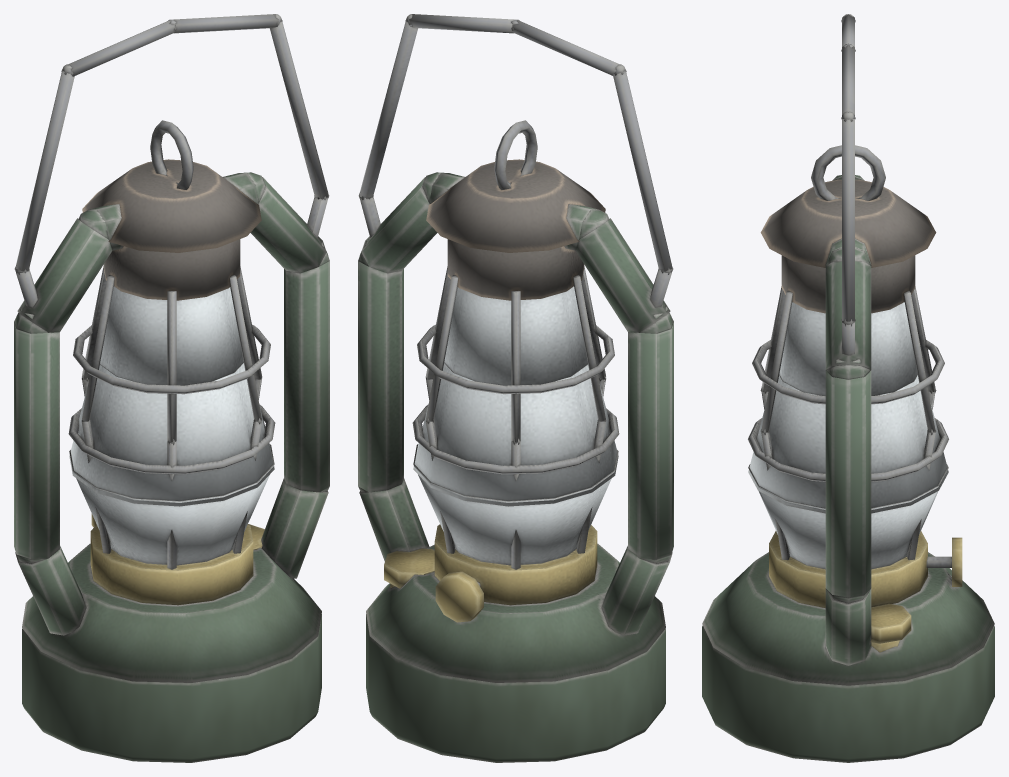
The model's file is kerosene_lamp.glb.
3 views of the same model, side by side, from view 1: azimuth 30°, elevation 25°; view 2: azimuth 150°, elevation 25°; view 3: azimuth 270°, elevation 25° (orthographic). The views are drawn at different scales.
Visible parts, largest first — view 1: kerosene_lamp; view 2: kerosene_lamp; view 3: kerosene_lamp.
Boxes of the visible parts, left/top/right/bottom form: kerosene_lamp: left=14, top=14, right=329, bottom=762; kerosene_lamp: left=358, top=14, right=673, bottom=762; kerosene_lamp: left=702, top=14, right=994, bottom=762.
Bounding box in the file's own units: 0.1668 × 0.3485 × 0.14.
Materials: 1 (1 with a texture image).
